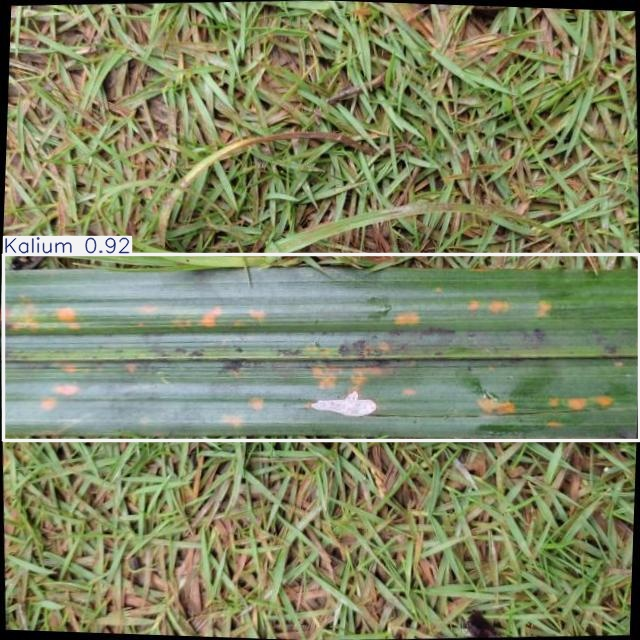Kalium: (3, 254, 639, 440)
